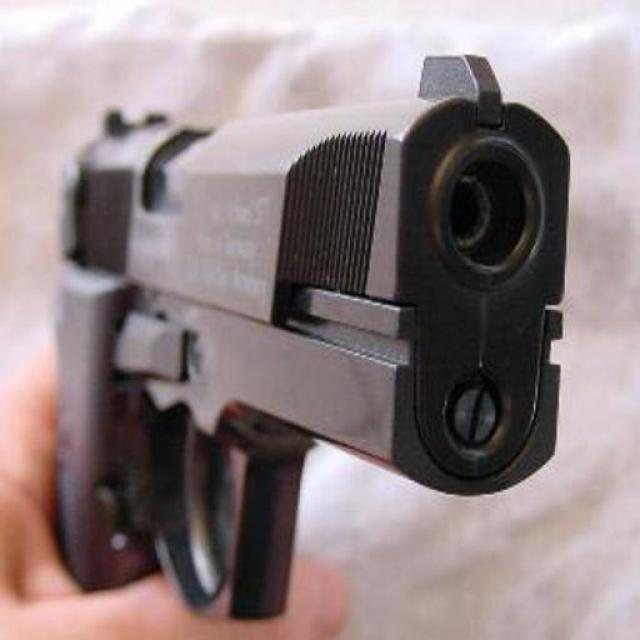pistol: (54, 47, 578, 621)
